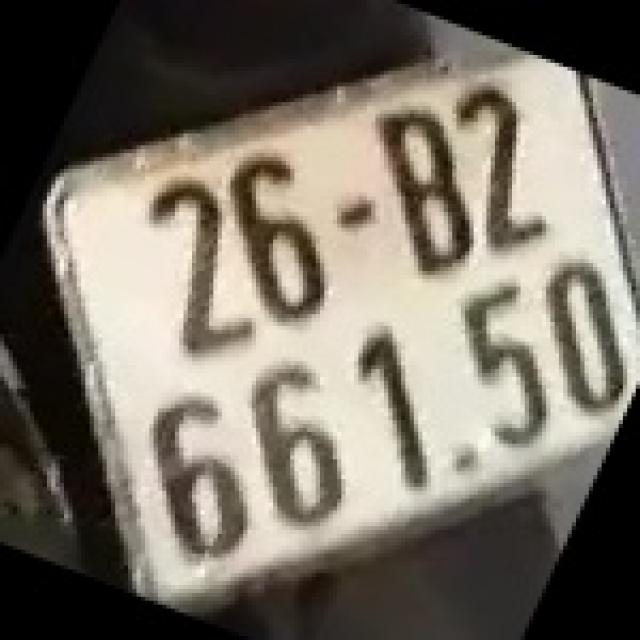0: (546, 259, 627, 416)
1: (354, 330, 435, 495)
2: (141, 161, 256, 357), (460, 82, 554, 255)
5: (461, 282, 550, 448)
6: (145, 388, 248, 562), (230, 153, 328, 322), (252, 361, 346, 530)
B: (371, 106, 478, 279)
